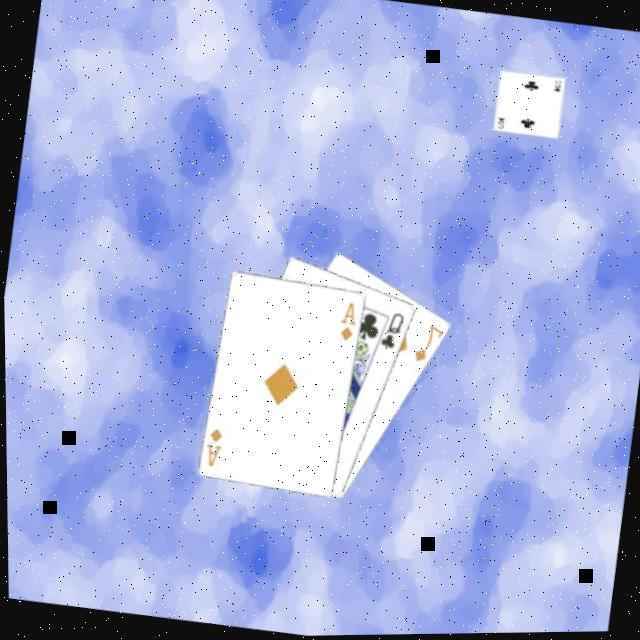7D: (410, 320, 447, 368)
AD: (336, 298, 364, 344), (202, 424, 228, 470)
QC: (377, 308, 410, 354)
